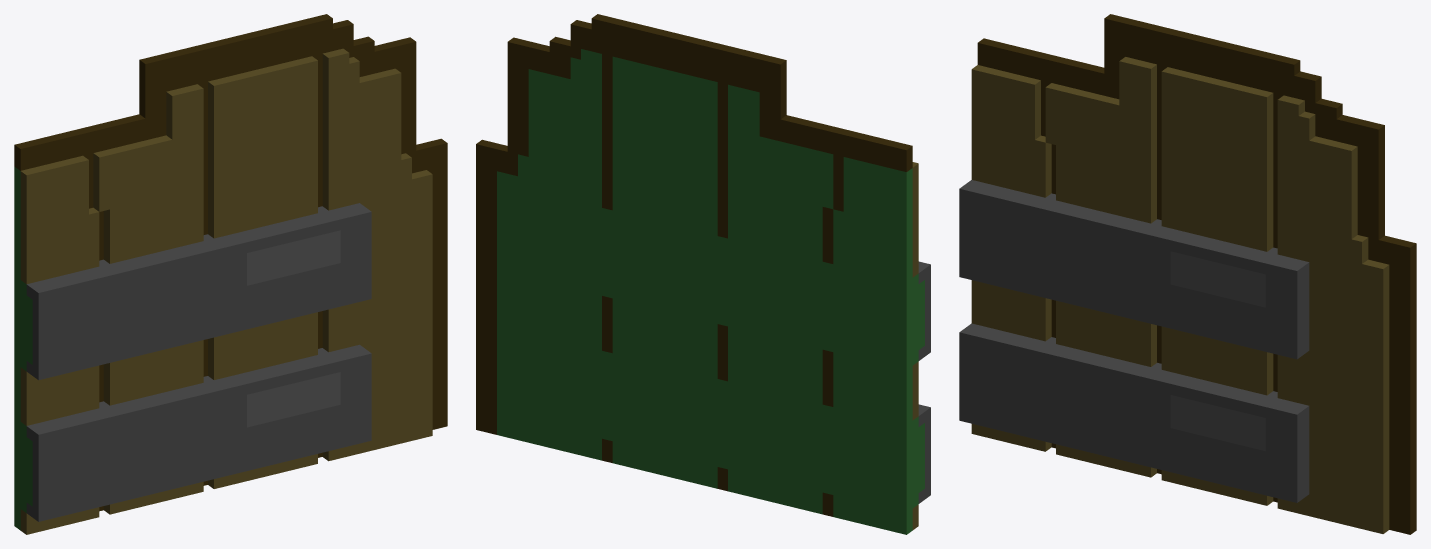
File: house-0.obj
3 renders of one model, left to right at view 1: azimuth 30°, elevation 25°; view 2: azimuth 150°, elevation 25°; view 3: azimuth 330°, elevation 25°, orthographic.
Bounding box in the file's own units: 4.1 × 4 × 0.4.
1 material, 1 textured.
